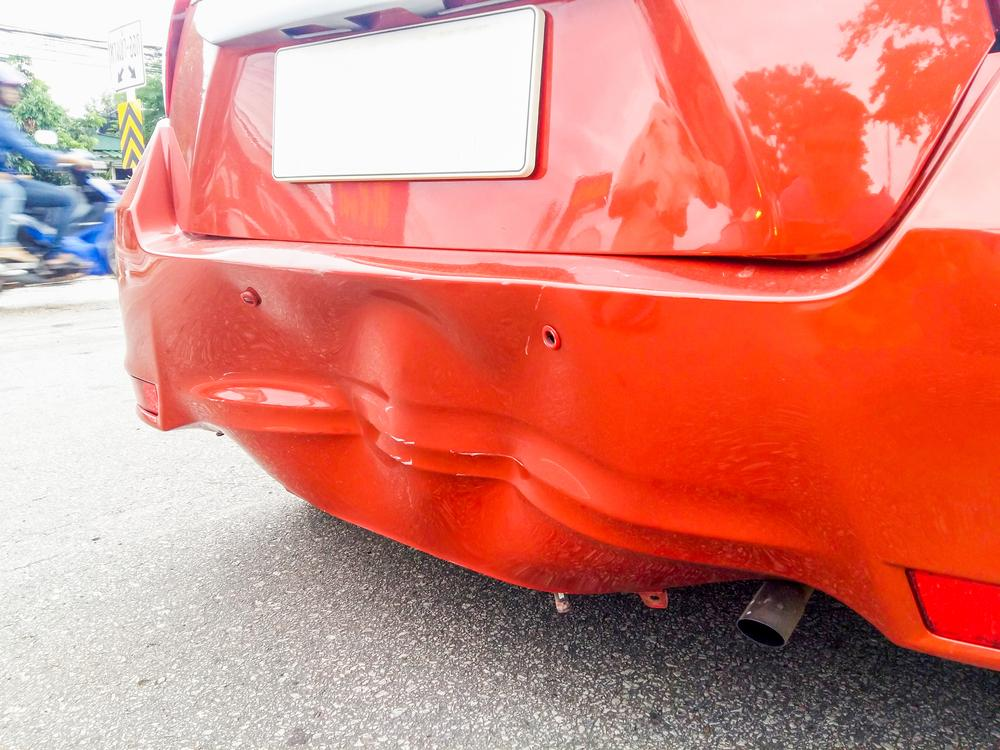dent: (174, 281, 550, 576)
